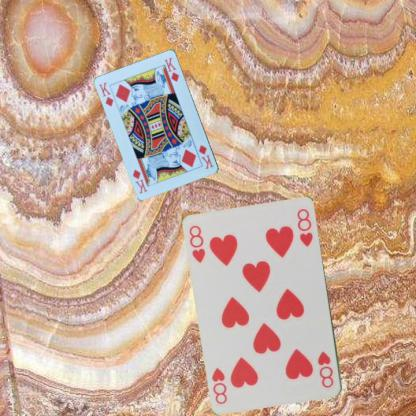8h: (186, 222, 206, 264), (315, 349, 335, 389)
Kd: (196, 142, 215, 171), (96, 79, 115, 108)
